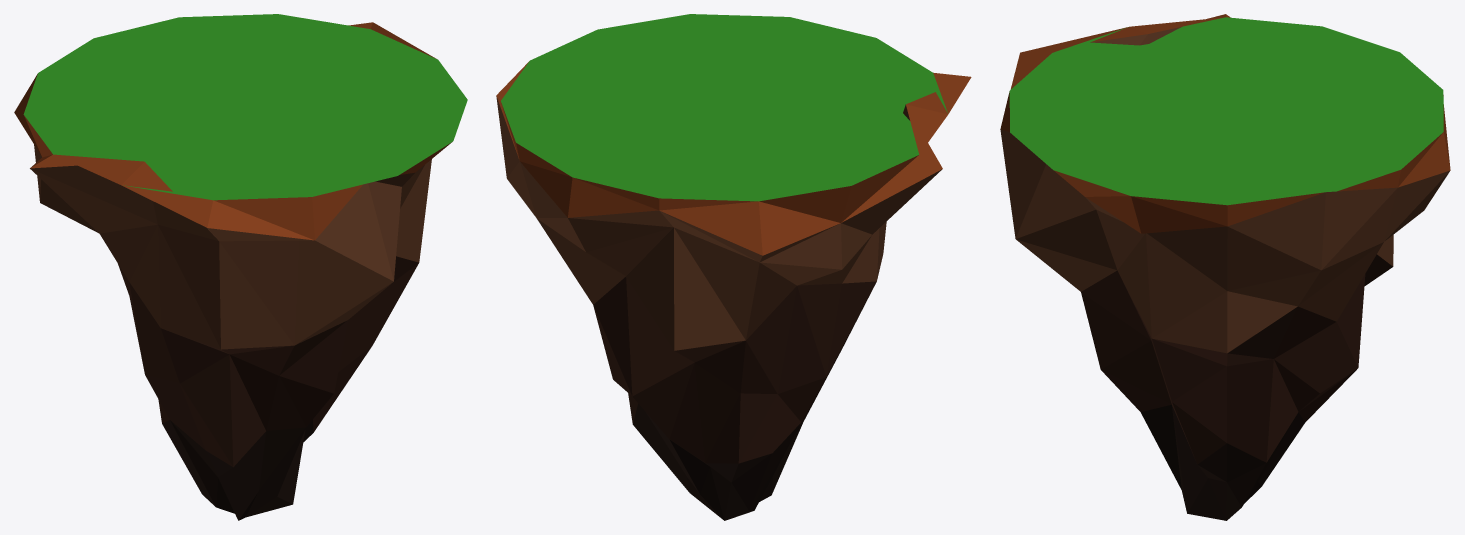
File: SM_Rock_A.fbx
3 views of the same model, side by side, from view 1: azimuth 30°, elevation 25°; view 2: azimuth 150°, elevation 25°; view 3: azimuth 270°, elevation 25° (orthographic).
Parts seen in each view (by area): view 1: SM_Rock_A; view 2: SM_Rock_A; view 3: SM_Rock_A.
Boxes of the visible parts, <box> form: SM_Rock_A: <box>14,14,467,520</box>; SM_Rock_A: <box>496,14,971,520</box>; SM_Rock_A: <box>1000,14,1450,520</box>.
Bounding box in the file's own units: 6.58 × 6.27 × 6.43.
